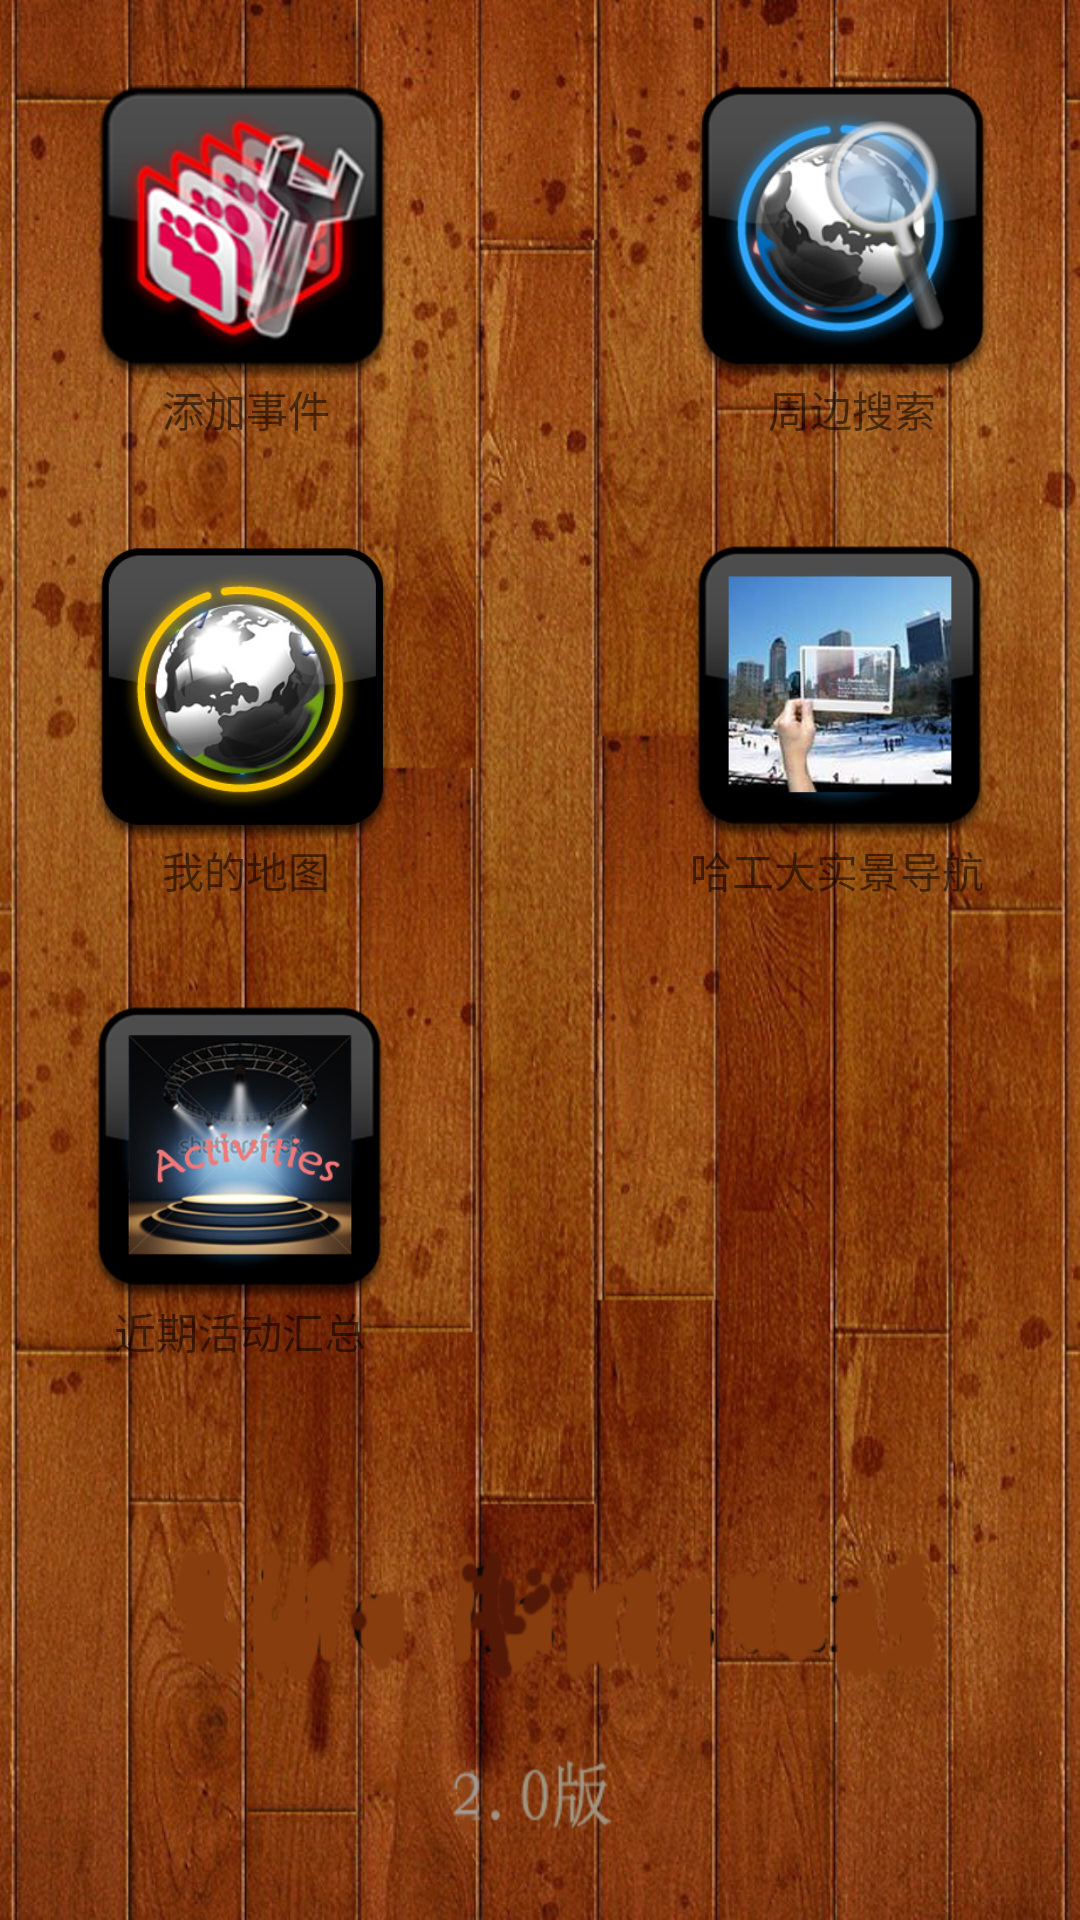

Screen size 1080x1920. Icon name, then its box in pixels as bbox(x1, y1, x2, y2):
location: bbox(90, 539, 390, 839)
poi: bbox(690, 78, 990, 378)
